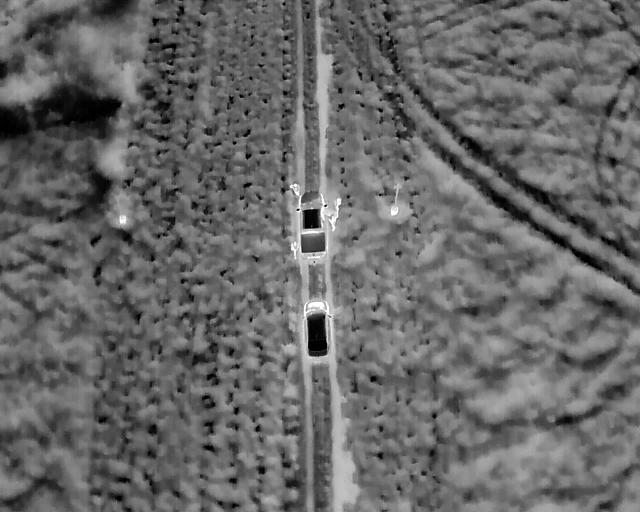car: (297, 189, 328, 256), (301, 298, 333, 357)
person: (288, 179, 301, 199), (288, 240, 300, 260), (326, 211, 337, 231), (333, 195, 343, 213)
